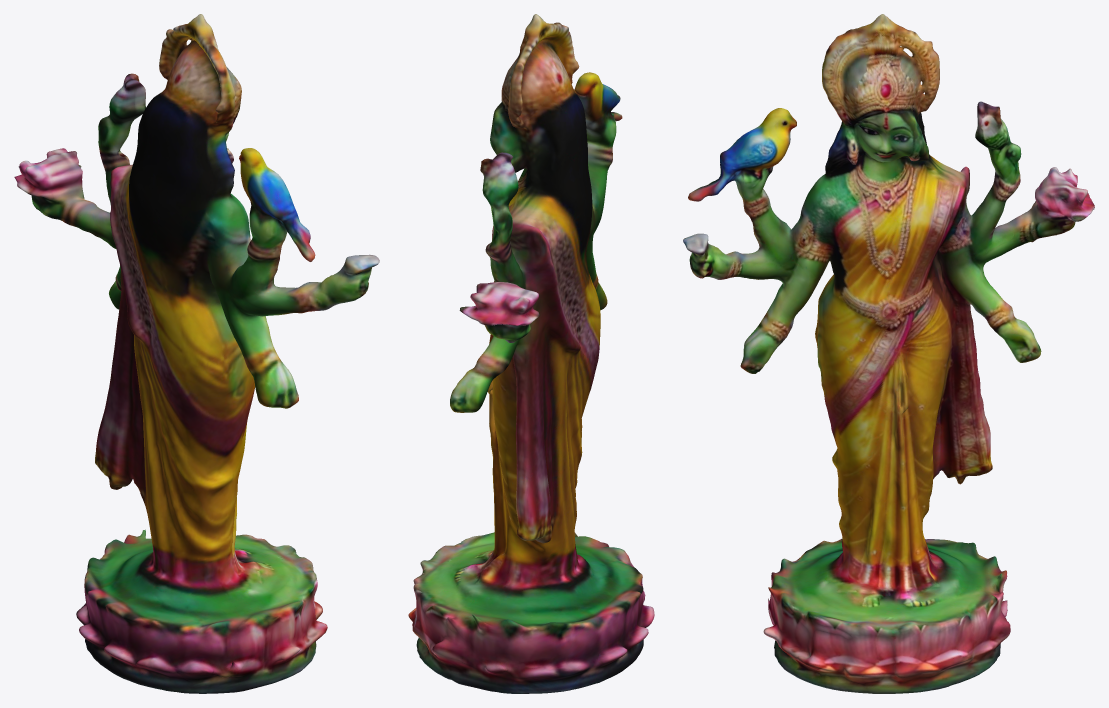
Rendered from meenakshi.glb.
3 views of the same model, side by side, from view 1: azimuth 30°, elevation 25°; view 2: azimuth 150°, elevation 25°; view 3: azimuth 270°, elevation 25° (orthographic).
Visible parts, largest first — view 1: tripo_node_f4cd87e7-c551-4ba5-b033-2b402abdc0dc; view 2: tripo_node_f4cd87e7-c551-4ba5-b033-2b402abdc0dc; view 3: tripo_node_f4cd87e7-c551-4ba5-b033-2b402abdc0dc.
Part boxes in pixels (x1,y1,x2,y2): tripo_node_f4cd87e7-c551-4ba5-b033-2b402abdc0dc: [14, 14, 379, 693]; tripo_node_f4cd87e7-c551-4ba5-b033-2b402abdc0dc: [408, 14, 654, 693]; tripo_node_f4cd87e7-c551-4ba5-b033-2b402abdc0dc: [683, 14, 1094, 693].
Bounding box in the file's own units: 0.3098 × 0.8965 × 0.5241.
1 material, 1 textured.
